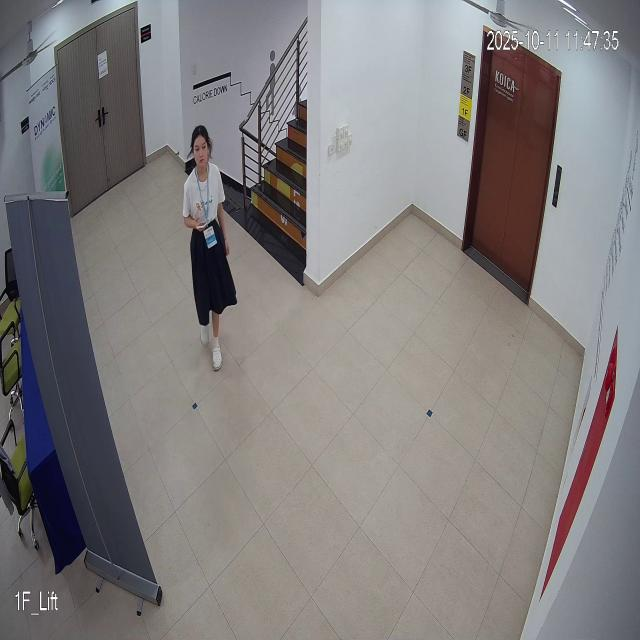face: (187, 118, 213, 172)
